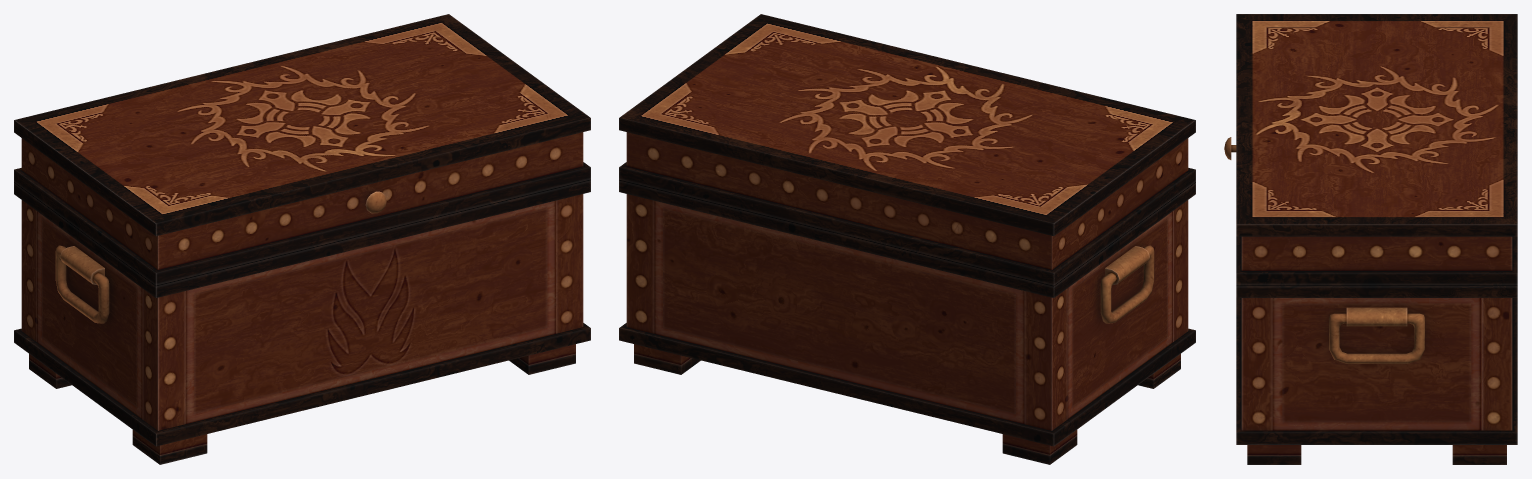
File: DS_WizLab_Clut_SmallChest.fbx
The picture shows the model from 3 angles, left to right: view 1: azimuth 30°, elevation 25°; view 2: azimuth 150°, elevation 25°; view 3: azimuth 270°, elevation 25°; orthographic projection.
Visible parts, largest first — view 1: DS_WizLab_Clut_SmallChest; view 2: DS_WizLab_Clut_SmallChest; view 3: DS_WizLab_Clut_SmallChest.
Part boxes in pixels (x1=…): DS_WizLab_Clut_SmallChest: x1=14, y1=14, x2=590, y2=464; DS_WizLab_Clut_SmallChest: x1=619, y1=14, x2=1195, y2=464; DS_WizLab_Clut_SmallChest: x1=1224, y1=14, x2=1517, y2=464.
Size of the model in its own units: 96.17 by 50 by 54.24.
Materials: 1 (1 with a texture image).
